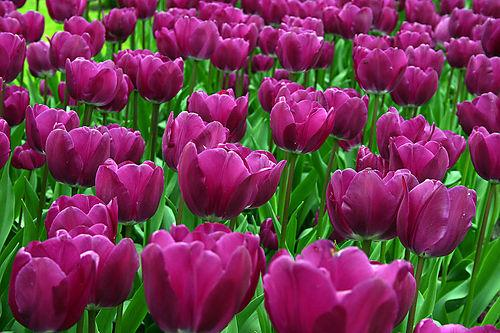tulip: (265, 240, 418, 333), (142, 221, 265, 333), (12, 231, 98, 333), (398, 177, 477, 258), (328, 165, 412, 240), (179, 142, 256, 220), (96, 157, 163, 220), (163, 111, 228, 172), (48, 125, 111, 186), (270, 97, 335, 154), (44, 195, 114, 239), (190, 89, 247, 140), (66, 55, 123, 106), (319, 86, 370, 141), (353, 42, 404, 92), (136, 53, 185, 104), (176, 17, 221, 58), (468, 124, 500, 181), (277, 27, 320, 68), (393, 66, 437, 103), (466, 54, 500, 93), (0, 33, 26, 79)
